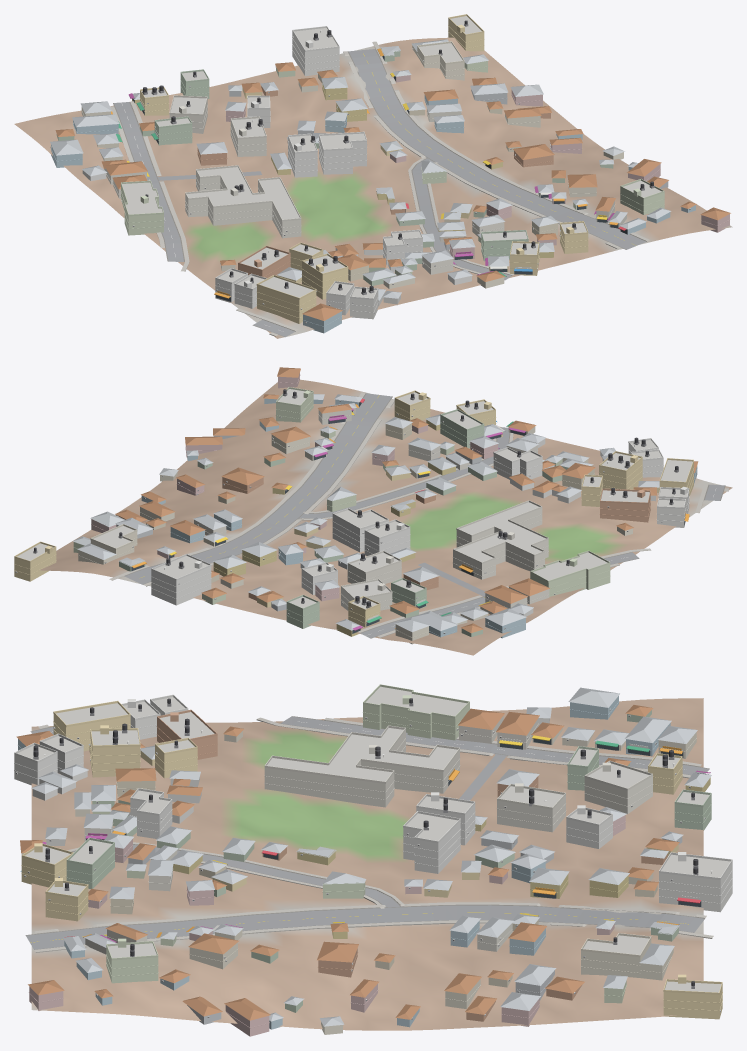
The picture shows the model from 3 angles, top to bottom: view 1: azimuth 30°, elevation 25°; view 2: azimuth 150°, elevation 25°; view 3: azimuth 270°, elevation 25°; orthographic projection. The views are drawn at different scales.
Parts seen in each view (by area): view 1: Buildings-col, Terrain-col, Details, Roads-col, Sidewalks-col; view 2: Buildings-col, Terrain-col, Details, Roads-col, Sidewalks-col; view 3: Buildings-col, Terrain-col, Details, Roads-col, Sidewalks-col.
Part boxes in pixels (x1,y1,x2,y2): Buildings-col: (50,16,730,333); Terrain-col: (14,37,732,338); Details: (50,14,729,326); Roads-col: (113,49,646,337); Sidewalks-col: (110,41,649,336); Buildings-col: (14,367,698,644); Terrain-col: (40,379,732,655); Details: (14,375,697,637); Roads-col: (124,393,725,638); Sidewalks-col: (109,392,729,637); Buildings-col: (14,686,732,1036); Terrain-col: (31,698,703,1030); Details: (14,684,732,1028); Roads-col: (25,716,709,949); Sidewalks-col: (34,717,713,952).
Size of the model in its own units: 271 by 31.24 by 274.
